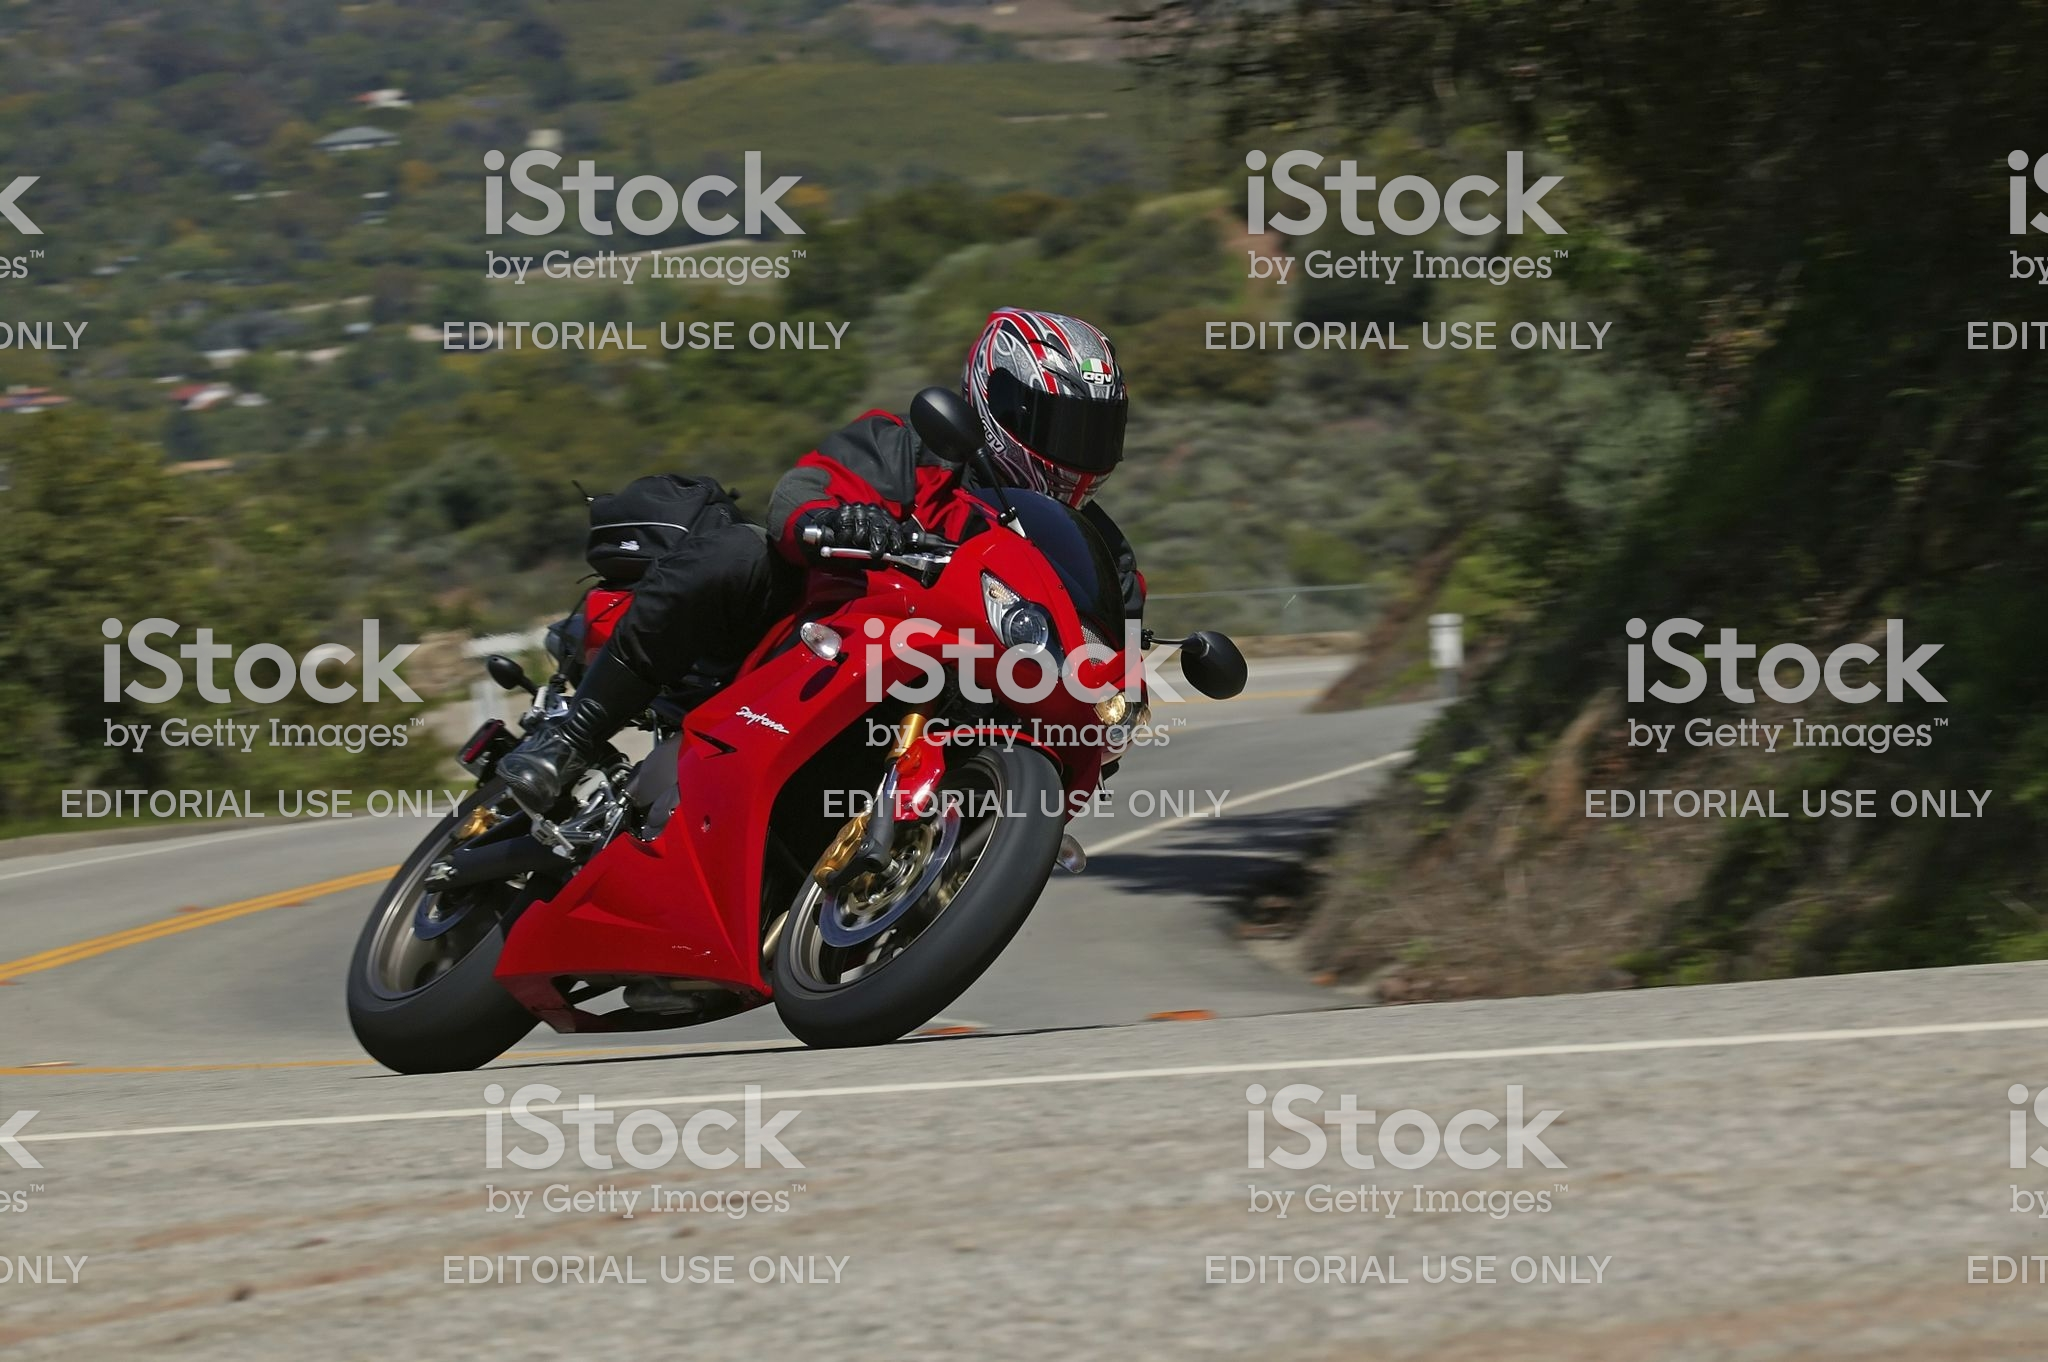helmet: (965, 302, 1152, 524)
